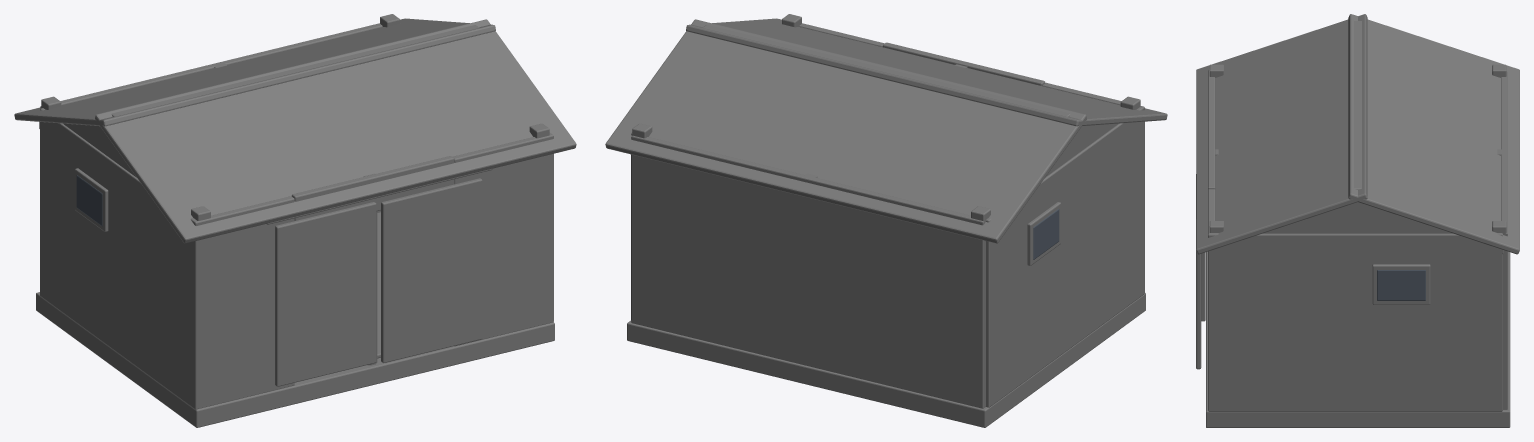
The model's file is warehouse.glb.
3 renders of one model, left to right at view 1: azimuth 30°, elevation 25°; view 2: azimuth 150°, elevation 25°; view 3: azimuth 270°, elevation 25°, orthographic. The views are drawn at different scales.
Visible parts, largest first — view 1: roof, wallS, doorL, doorR, wallF, wallF.001, roof.001, footing, wallFtop, ridge, wallB, gable (+3 smaller); view 2: wallB, roof.001, wallS, roof, footing, ridge, wallFtop, gable, wallF, winDark, winFrame; view 3: wallS.001, roof.001, roof, footing, gable.001, wallB, winDark.001, wallF.001, ridge, winFrame.001, doorR, wallFtop (+2 smaller).
Part boxes in pixels (bbox=[...]): roof: bbox=[95, 19, 576, 243]; wallS: bbox=[40, 108, 195, 406]; doorL: bbox=[275, 202, 376, 386]; doorR: bbox=[381, 178, 482, 363]; wallF: bbox=[192, 196, 294, 409]; wallF.001: bbox=[452, 133, 553, 346]; roof.001: bbox=[14, 18, 495, 126]; footing: bbox=[36, 292, 554, 427]; wallFtop: bbox=[291, 156, 454, 220]; ridge: bbox=[111, 25, 479, 116]; wallB: bbox=[40, 23, 382, 212]; gable: bbox=[63, 123, 136, 177]; wallB: bbox=[631, 135, 985, 408]; roof.001: bbox=[605, 19, 1086, 243]; wallS: bbox=[986, 108, 1141, 407]; roof: bbox=[686, 18, 1167, 126]; footing: bbox=[627, 293, 1145, 427]; ridge: bbox=[702, 25, 1070, 116]; wallFtop: bbox=[882, 42, 1045, 85]; gable: bbox=[1045, 123, 1118, 177]; wallF: bbox=[1042, 82, 1144, 295]; winDark: bbox=[1033, 209, 1059, 259]; winFrame: bbox=[1027, 202, 1060, 265]; wallS.001: bbox=[1214, 233, 1502, 411]; roof.001: bbox=[1348, 14, 1519, 254]; roof: bbox=[1196, 14, 1367, 254]; footing: bbox=[1206, 251, 1510, 427]; gable.001: bbox=[1263, 202, 1452, 233]; wallB: bbox=[1501, 71, 1507, 409]; winDark.001: bbox=[1377, 270, 1425, 300]; wallF.001: bbox=[1208, 189, 1215, 411]; ridge: bbox=[1354, 21, 1361, 189]; winFrame.001: bbox=[1372, 264, 1430, 304]; doorR: bbox=[1196, 174, 1201, 369]; wallFtop: bbox=[1208, 114, 1215, 189].
Size of the model in its own units: 5.9 by 3.68 by 4.47.
9 materials, 8 textured.
